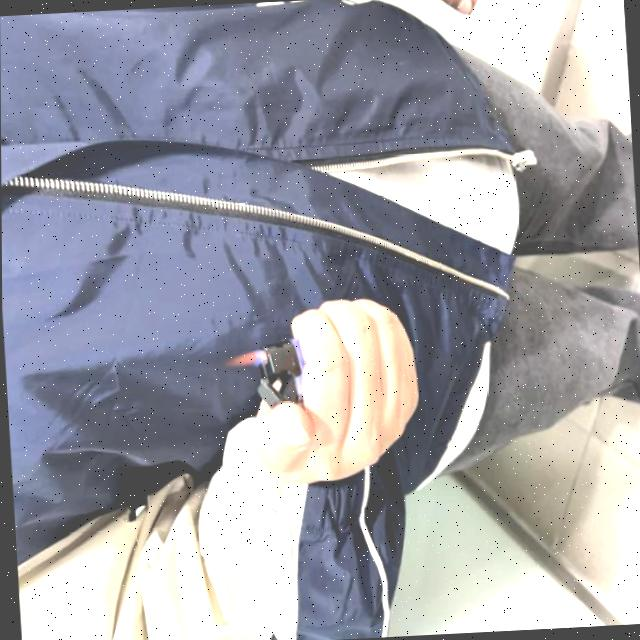Fire: (225, 348, 266, 370)
